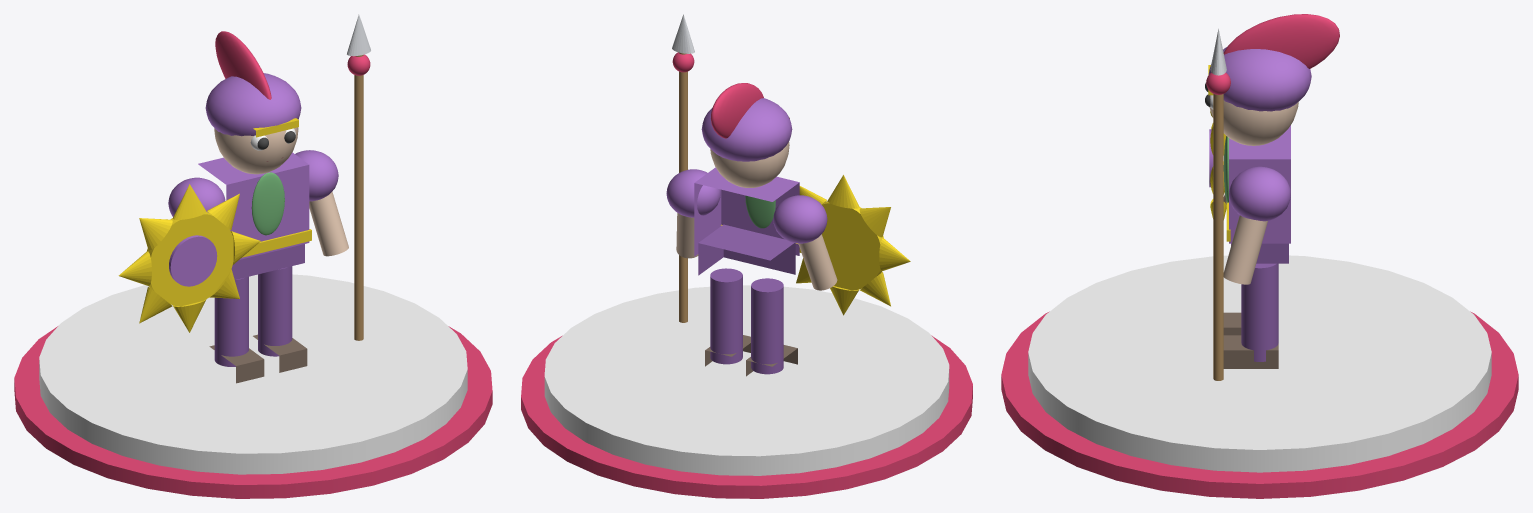
The model's file is dept8.glb.
3 views of the same model, side by side, from view 1: azimuth 30°, elevation 25°; view 2: azimuth 150°, elevation 25°; view 3: azimuth 270°, elevation 25° (orthographic). The views are drawn at different scales.
Size of the model in its own units: 2.5 by 2.17 by 2.5.
